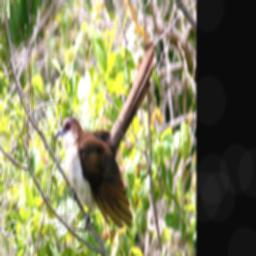Cuckoo: (53, 37, 133, 237)
